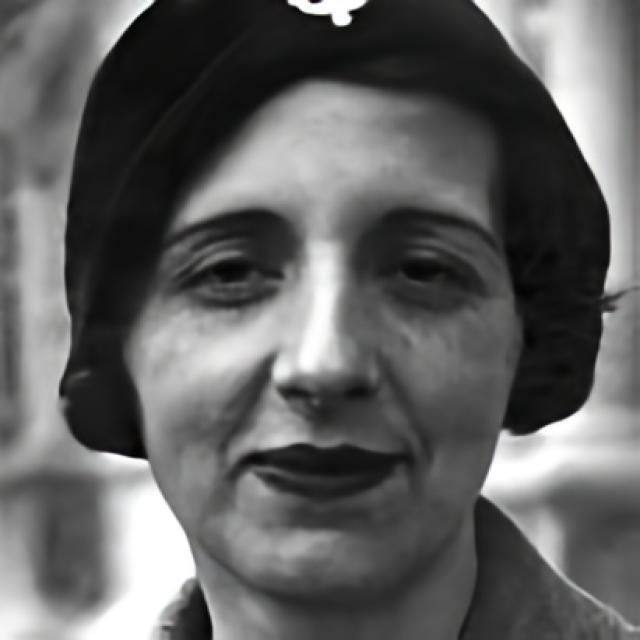content: (127, 80, 524, 598)
